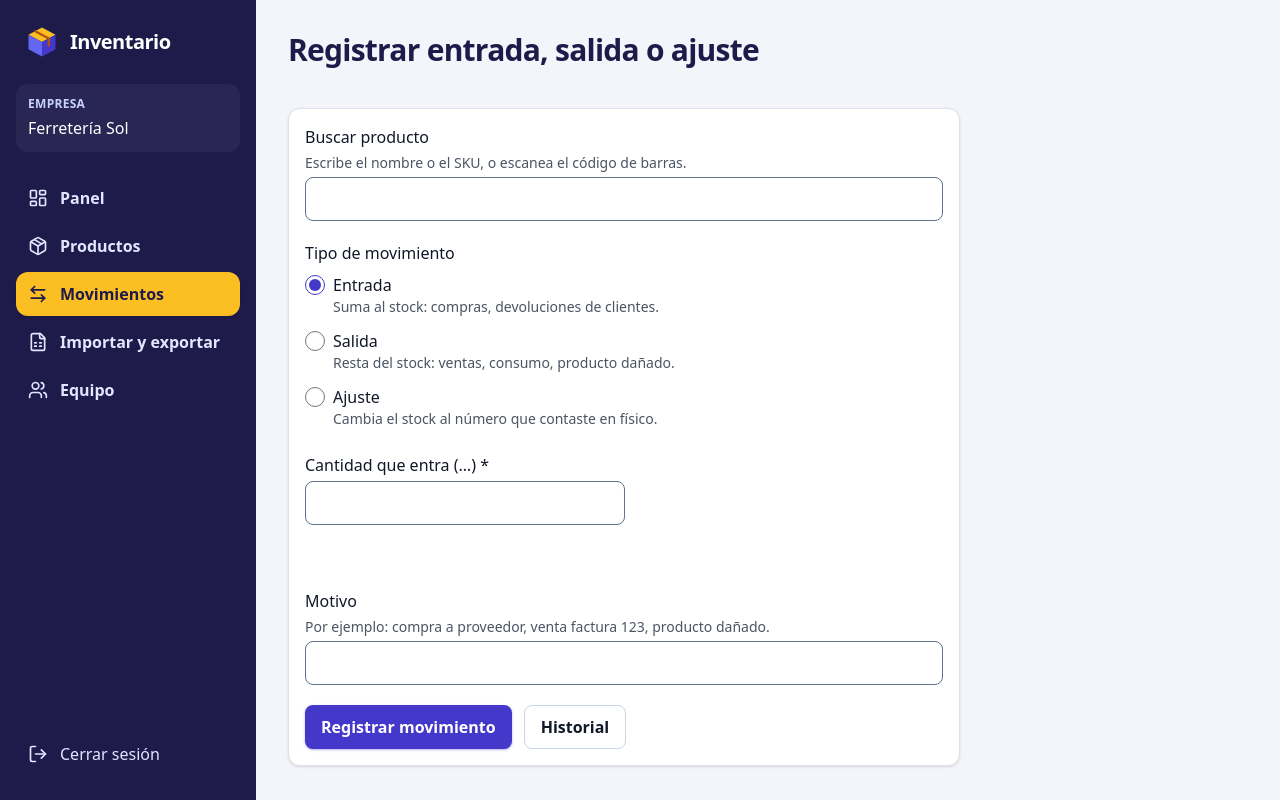
it: Registrar movimientos › escanea un SKU, valida la salida y la registra
Type "p-000002" into the search field labelled "Buscar producto" at {"x": 624, "y": 199}, box [305,177,943,221]
Then press Enter
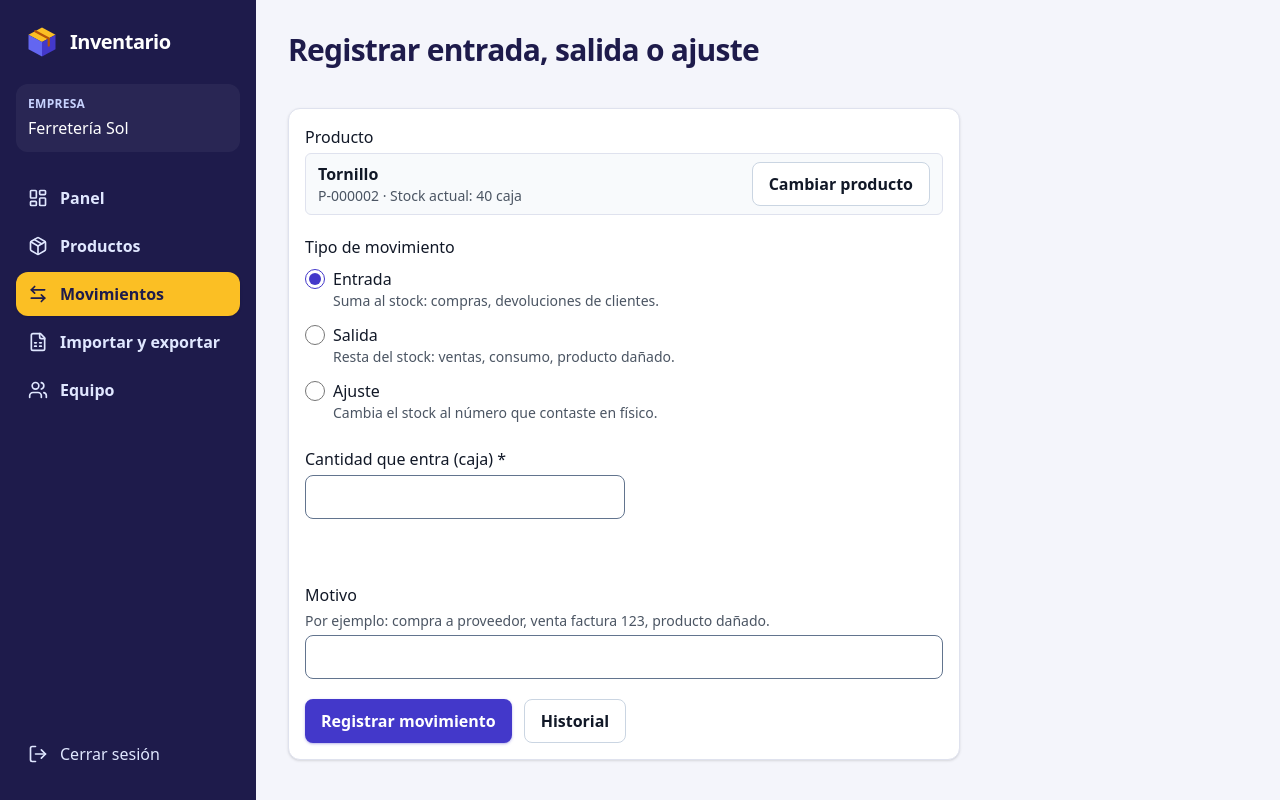
Expected: the text "P-000002 · Stock actual: 40 caja" is shown, [318,186,522,206]
Click the radio button labelled "Salida Resta del stock: ventas, consumo, producto dañado." at {"x": 315, "y": 335}, box [305,325,325,345]
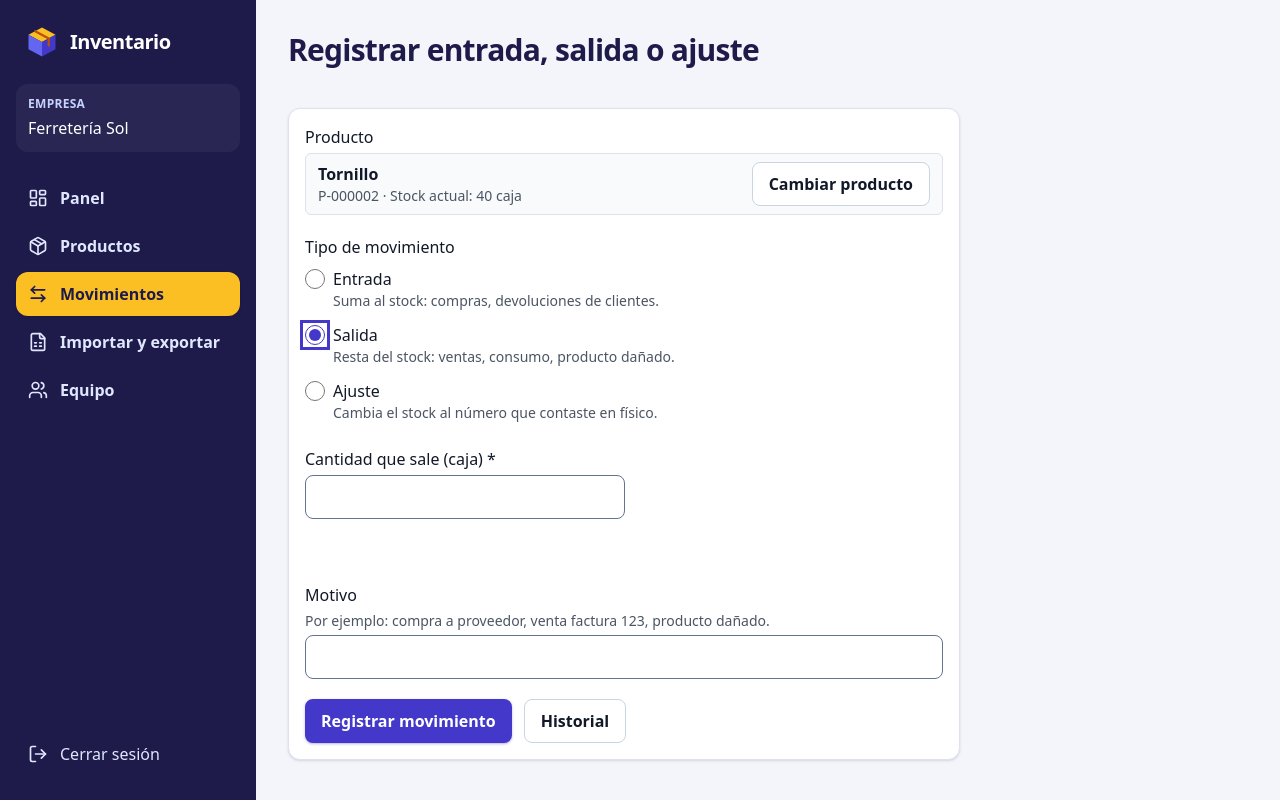
Type "50" into the field labelled "Cantidad que sale (caja) *" at {"x": 465, "y": 497}, box [305,475,625,519]
Click the button "Registrar movimiento" at {"x": 408, "y": 721}, box [305,699,512,743]
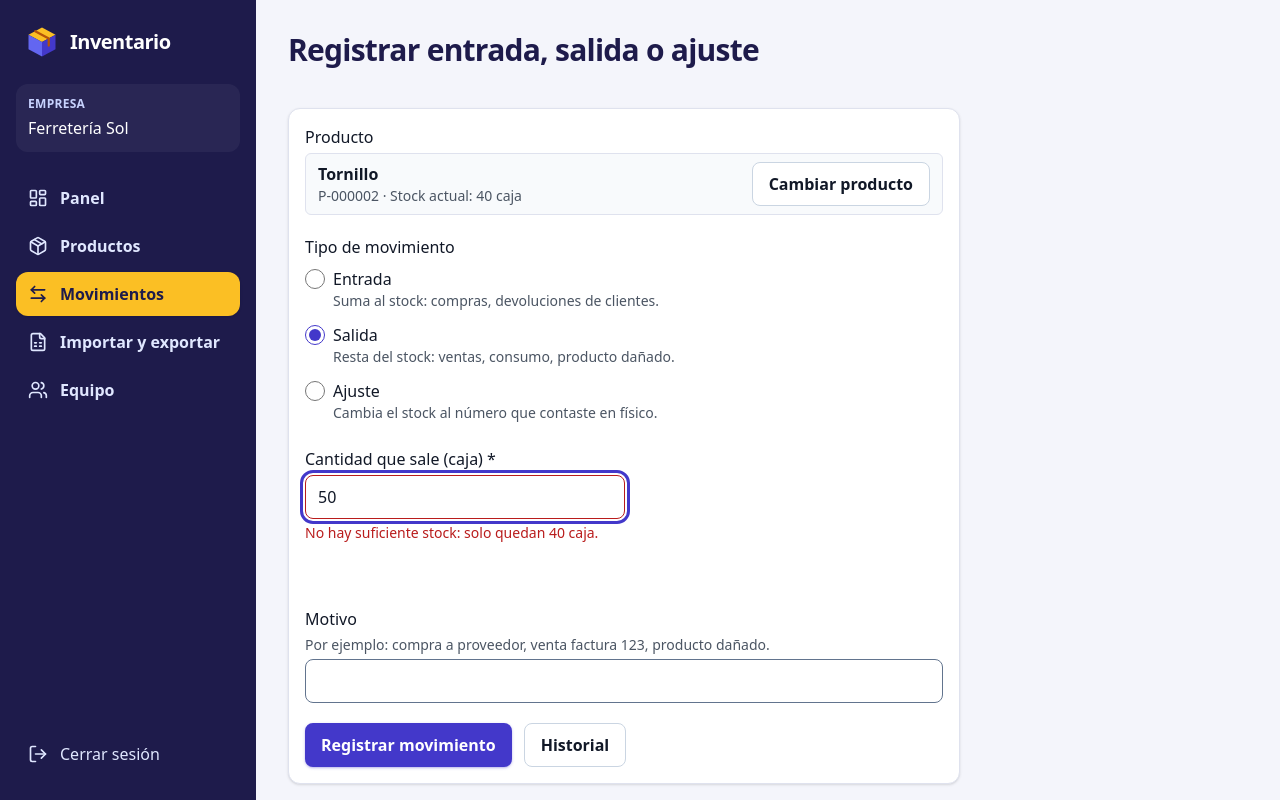
Replace the text in the field labelled "Cantidad que sale (caja) *" with "5" at {"x": 465, "y": 497}, box [305,475,625,519]
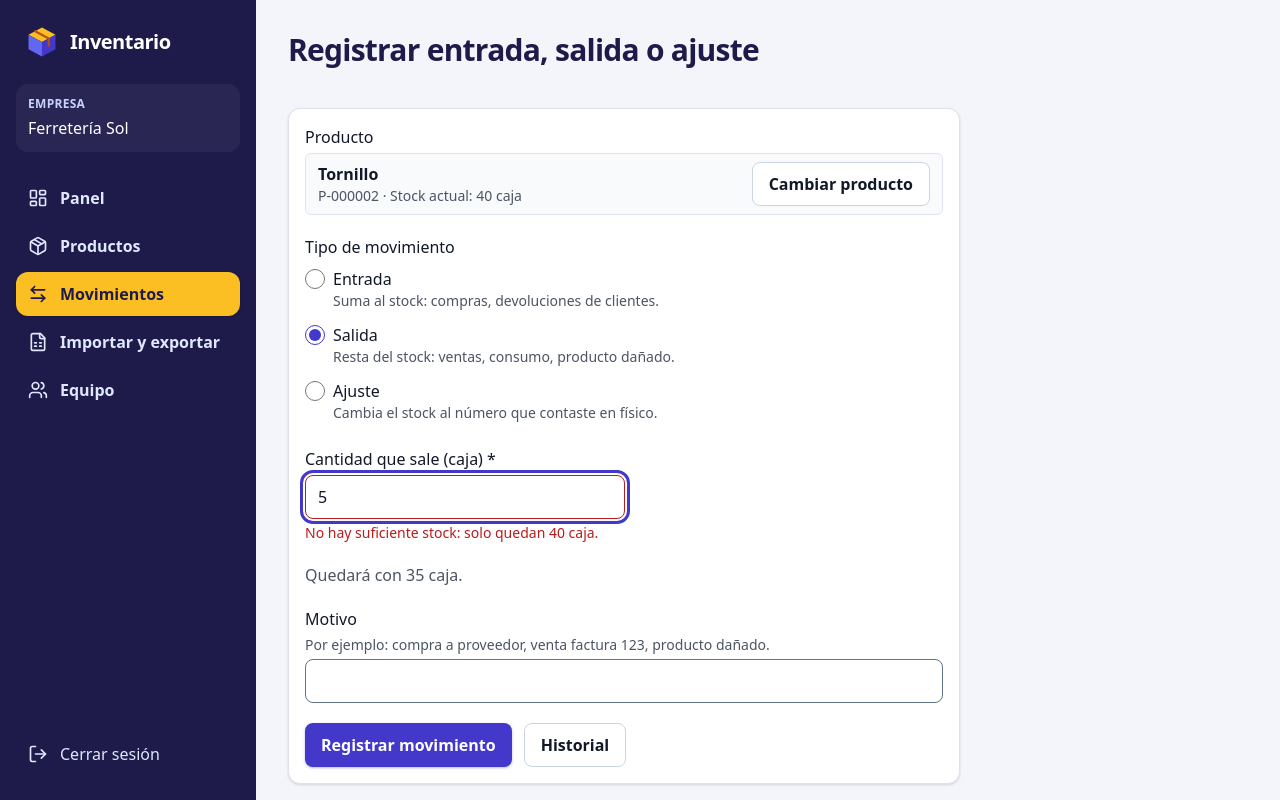
Expected: the text "Quedará con 35 caja." is shown, [305,564,463,586]
Type "Venta mostrador" into the field labelled "Motivo" at {"x": 624, "y": 681}, box [305,659,943,703]
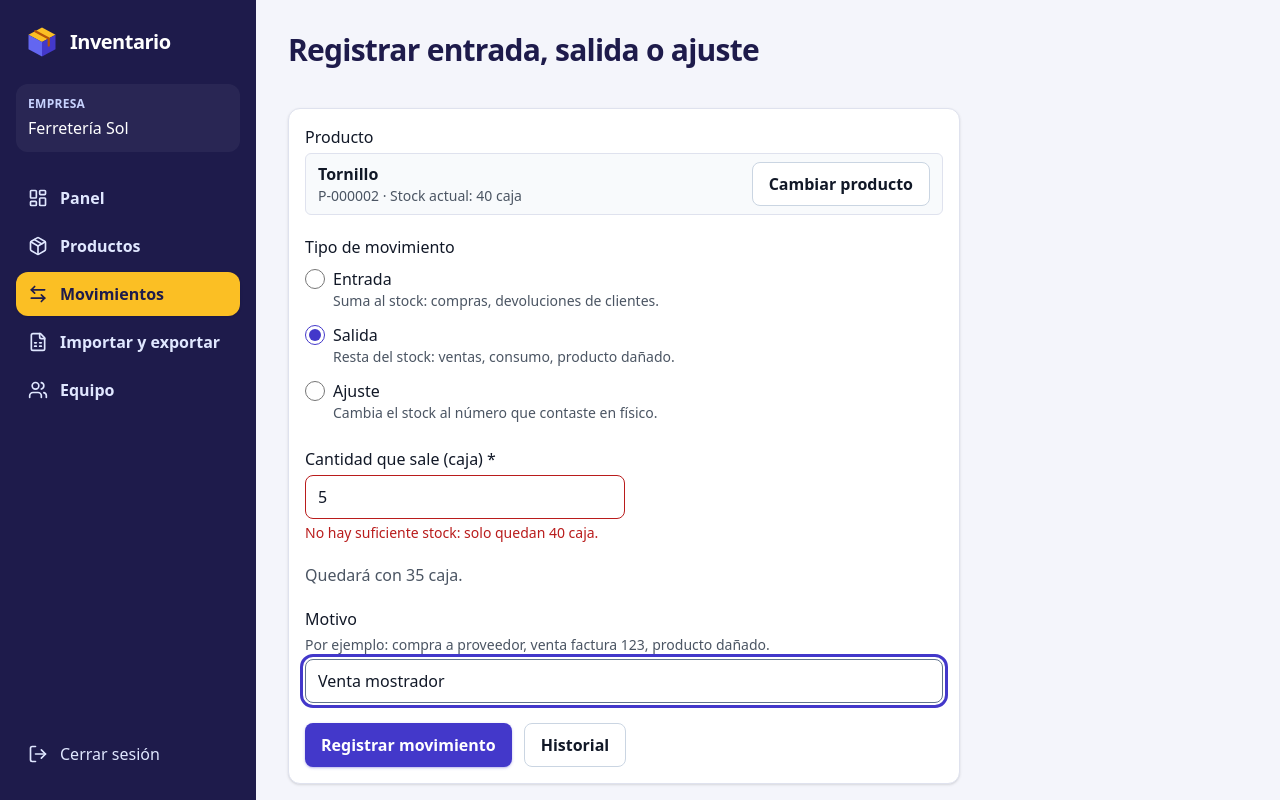
Click the button "Registrar movimiento" at {"x": 408, "y": 745}, box [305,723,512,767]
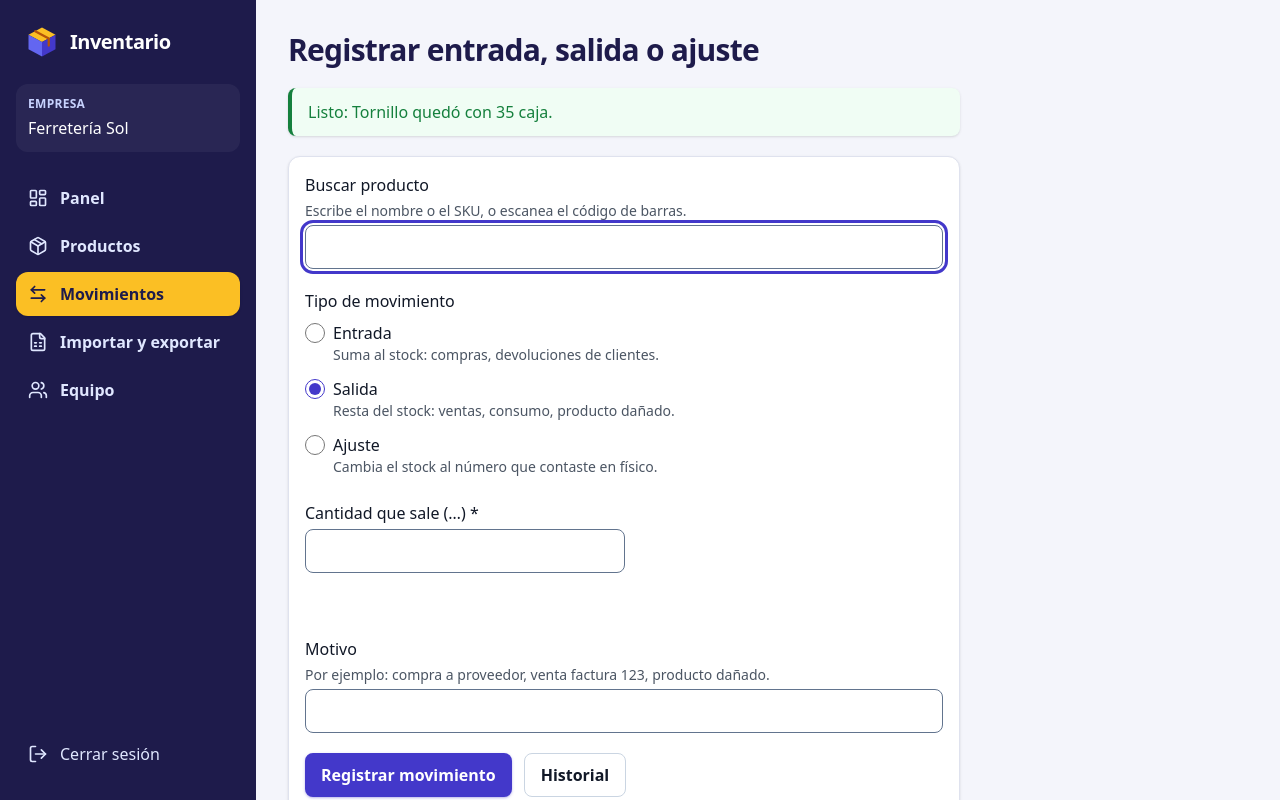
Expected: the text "Listo: Tornillo quedó con 35 caja." is shown, [288,88,960,136]
